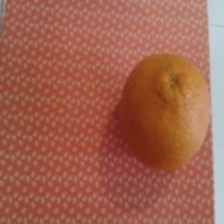orange: (28, 20, 169, 201)
